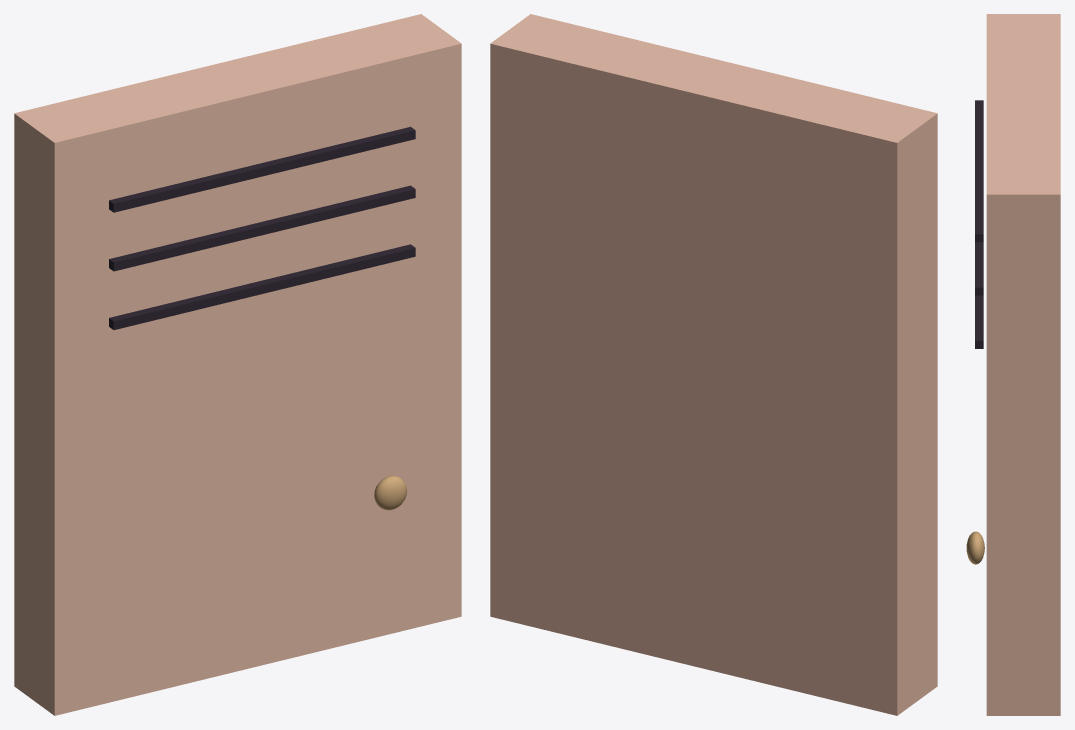
Rendered from TRD-04-01.glb.
The picture shows the model from 3 angles, left to right: view 1: azimuth 30°, elevation 25°; view 2: azimuth 150°, elevation 25°; view 3: azimuth 270°, elevation 25°; orthographic projection. The views are drawn at different scales.
Visible parts, largest first — view 1: TRD-04-01; view 2: TRD-04-01; view 3: TRD-04-01.
Part boxes in pixels (box(x1,y1,x2,y2)): TRD-04-01: box(14, 14, 461, 715); TRD-04-01: box(490, 14, 937, 715); TRD-04-01: box(966, 14, 1060, 715).
Size of the model in its own units: 0.58 by 0.78 by 0.1275.
